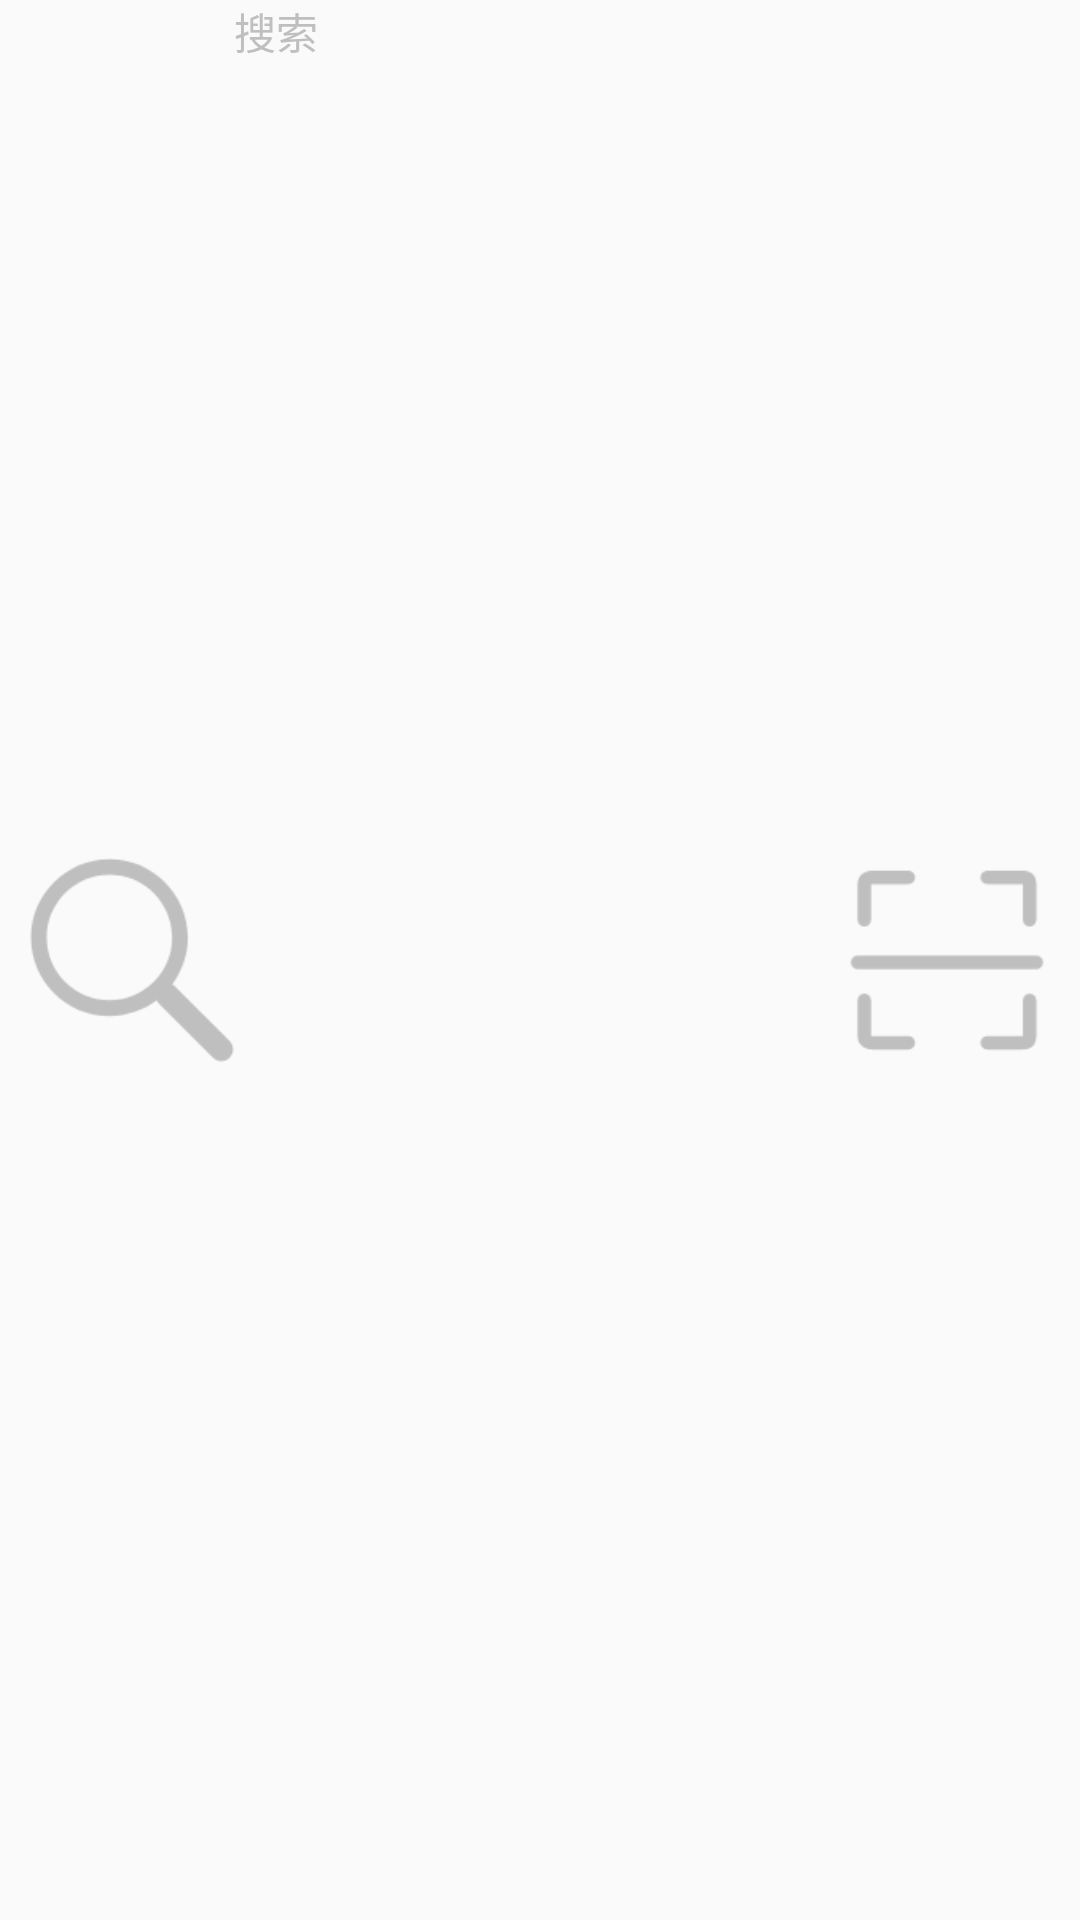

Icon bounding boxes for this 1080px×1920px phone screenshot, format region(x1, y1, x2, y2):
scan: region(851, 871, 1043, 1050)
search: region(31, 859, 233, 1062)
